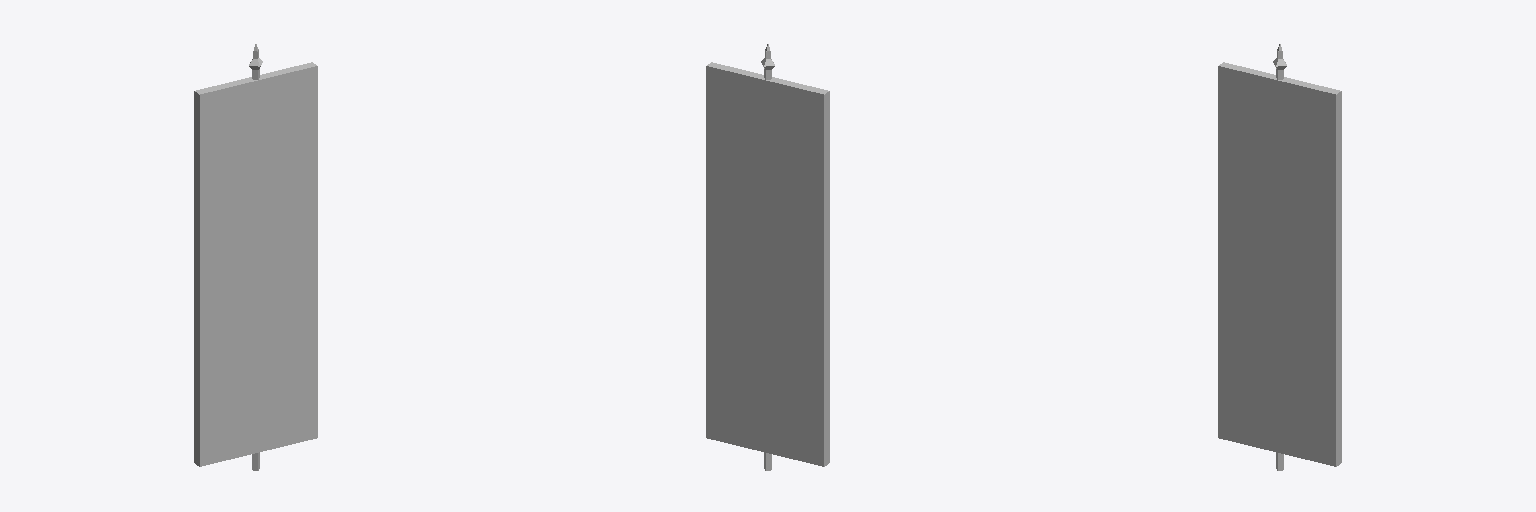
Rendered from airbending gates.obj.
3 views of the same model, side by side, from view 1: azimuth 30°, elevation 25°; view 2: azimuth 150°, elevation 25°; view 3: azimuth 330°, elevation 25° (orthographic).
Parts seen in each view (by area): view 1: mesh00-ita; view 2: mesh00-ita; view 3: mesh00-ita.
Boxes of the visible parts, x1=… form: mesh00-ita: x1=194, y1=44, x2=317, y2=470; mesh00-ita: x1=706, y1=44, x2=829, y2=470; mesh00-ita: x1=1218, y1=44, x2=1341, y2=470.
Bounding box in the file's own units: 1.06 × 3.67 × 0.133.